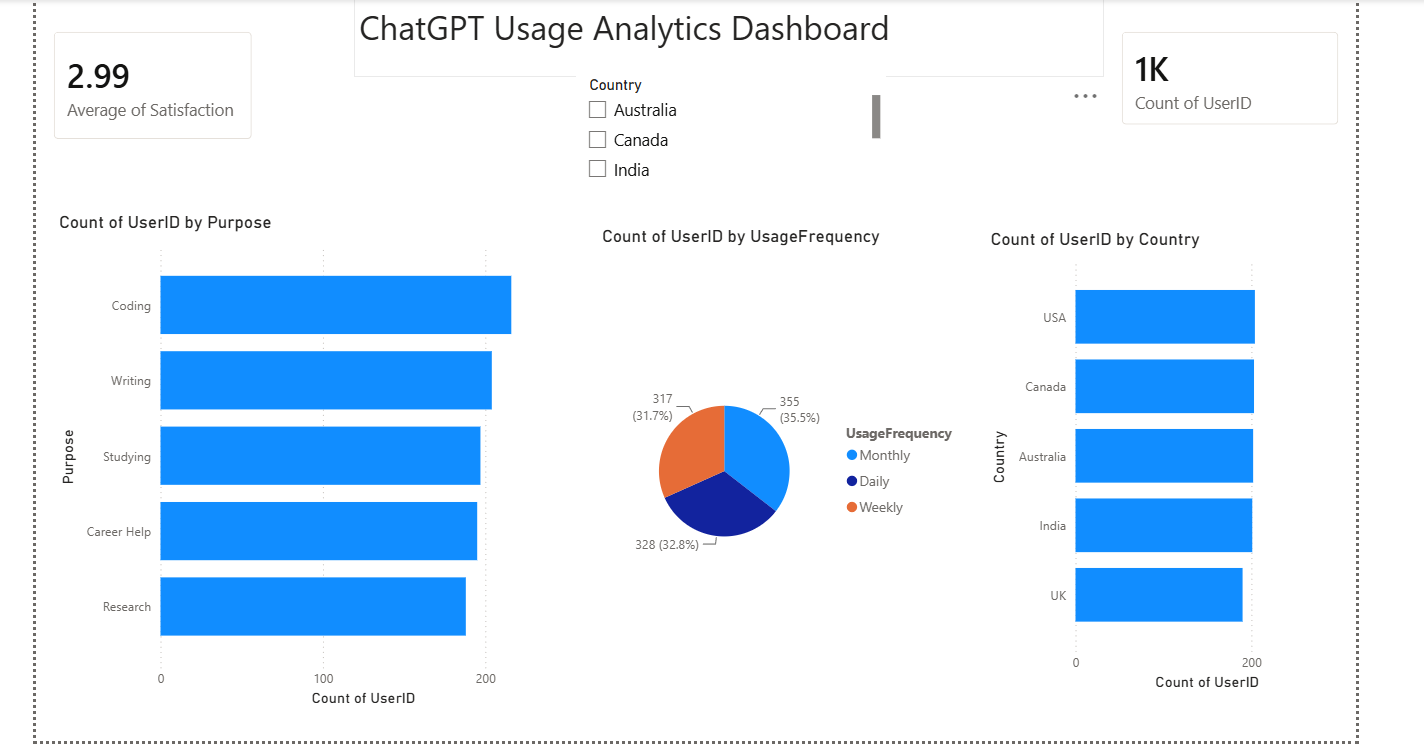

The dashboard page shown, as its layout file describes it:
{"tool":"powerbi","page":{"name":"Page 1","canvas":[1280,720],"ordinal":0},"visuals":[{"type":"cardVisual","fields":{"Data":["CountNonNull(Sheet1.UserID)"]},"box":[1036,14,244,124],"z":0},{"type":"clusteredBarChart","fields":{"Category":["Sheet1.Purpose"],"Y":["CountNonNull(Sheet1.UserID)"]},"box":[18,206,512,484],"z":1000},{"type":"cardVisual","fields":{"Data":["Avg(Sheet1.Satisfaction)"]},"box":[0,14,226,138],"z":2000},{"type":"pieChart","fields":{"Category":["Sheet1.UsageFrequency"],"Y":["CountNonNull(Sheet1.UserID)"]},"box":[544.4,220,363.3,456.7],"z":3000},{"type":"clusteredBarChart","fields":{"Category":["Sheet1.Country"],"Y":["CountNonNull(Sheet1.UserID)"]},"box":[922,222,358,452],"z":4000},{"type":"textbox","box":[308,0,728,76],"z":5000},{"type":"slicer","fields":{"Values":["Sheet1.Country"]},"box":[523.3,70,300,106.7],"z":6000}]}

Visuals, with their boxes on the page's 1280x720 design canvas (x1, y1, x2, y2). These are canvas units, not pixel positions in the 1424x751 screenshot, which may show the page scaled, cropped or inside an application window:
cardVisual - CountNonNull(Sheet1.UserID): locate(1036, 14, 1280, 138)
clusteredBarChart - Sheet1.Purpose x CountNonNull(Sheet1.UserID): locate(18, 206, 530, 690)
cardVisual - Avg(Sheet1.Satisfaction): locate(0, 14, 226, 152)
pieChart - Sheet1.UsageFrequency x CountNonNull(Sheet1.UserID): locate(544, 220, 908, 677)
clusteredBarChart - Sheet1.Country x CountNonNull(Sheet1.UserID): locate(922, 222, 1280, 674)
textbox: locate(308, 0, 1036, 76)
slicer - Sheet1.Country: locate(523, 70, 823, 177)
